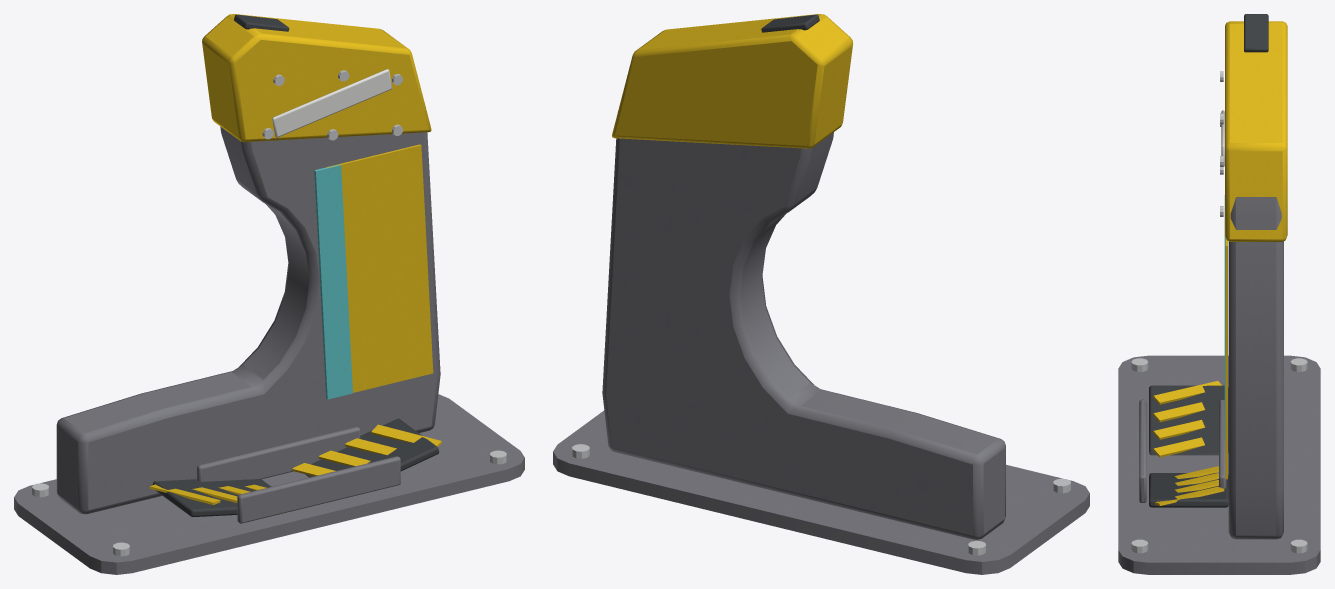
The model's file is sterling-dock-blockout.glb.
The picture shows the model from 3 angles, left to right: view 1: azimuth 30°, elevation 25°; view 2: azimuth 150°, elevation 25°; view 3: azimuth 270°, elevation 25°; orthographic projection. The views are drawn at different scales.
Parts seen in each view (by area): view 1: SD_UprightHousing, SD_Baseplate, SD_TopLockPlate, SD_BrandingSurface, SD_BrandingBand, SD_WheelGuide_Left, SD_WheelGuide_Right, SD_ReflectiveStrip, SD_WheelTread_Rear, SD_WheelTread_Front; view 2: SD_UprightHousing, SD_TopLockPlate, SD_Baseplate, SD_LockSlot; view 3: SD_Baseplate, SD_UprightHousing, SD_TopLockPlate, SD_WheelTread_Rear, SD_WheelTread_Front, SD_LockSlot, SD_WheelGuide_Left, SD_BrandingSurface, SD_WheelTreadStripe_Rear_0, SD_WheelGuide_Right, SD_WheelTreadStripe_Rear_1, SD_WheelTreadStripe_Rear_2 (+3 smaller).
Boxes of the visible parts, left/top/right/bottom form: SD_UprightHousing: left=56, top=126, right=440, bottom=514; SD_Baseplate: left=14, top=394, right=524, bottom=574; SD_TopLockPlate: left=202, top=14, right=431, bottom=142; SD_BrandingSurface: left=326, top=144, right=433, bottom=392; SD_BrandingBand: left=314, top=164, right=352, bottom=399; SD_WheelGuide_Left: left=237, top=456, right=400, bottom=523; SD_WheelGuide_Right: left=197, top=427, right=360, bottom=481; SD_ReflectiveStrip: left=272, top=69, right=392, bottom=137; SD_WheelTread_Rear: left=152, top=479, right=271, bottom=517; SD_WheelTread_Front: left=305, top=418, right=439, bottom=477; SD_UprightHousing: left=602, top=132, right=1005, bottom=539; SD_TopLockPlate: left=612, top=14, right=853, bottom=148; SD_Baseplate: left=553, top=410, right=1089, bottom=574; SD_LockSlot: left=761, top=14, right=819, bottom=32; SD_Baseplate: left=1118, top=355, right=1320, bottom=574; SD_UprightHousing: left=1228, top=197, right=1283, bottom=539; SD_TopLockPlate: left=1225, top=21, right=1287, bottom=241; SD_WheelTread_Rear: left=1149, top=385, right=1228, bottom=455; SD_WheelTread_Front: left=1149, top=473, right=1228, bottom=507; SD_LockSlot: left=1244, top=14, right=1268, bottom=52; SD_WheelGuide_Left: left=1139, top=399, right=1146, bottom=502; SD_BrandingSurface: left=1225, top=238, right=1227, bottom=479; SD_WheelTreadStripe_Rear_0: left=1153, top=381, right=1221, bottom=404; SD_WheelGuide_Right: left=1219, top=399, right=1226, bottom=488; SD_WheelTreadStripe_Rear_1: left=1153, top=402, right=1204, bottom=422; SD_WheelTreadStripe_Rear_2: left=1153, top=419, right=1204, bottom=439.
Bounding box in the file's own units: 0.8 × 0.8155 × 0.33.
6 materials, 3 textured.
